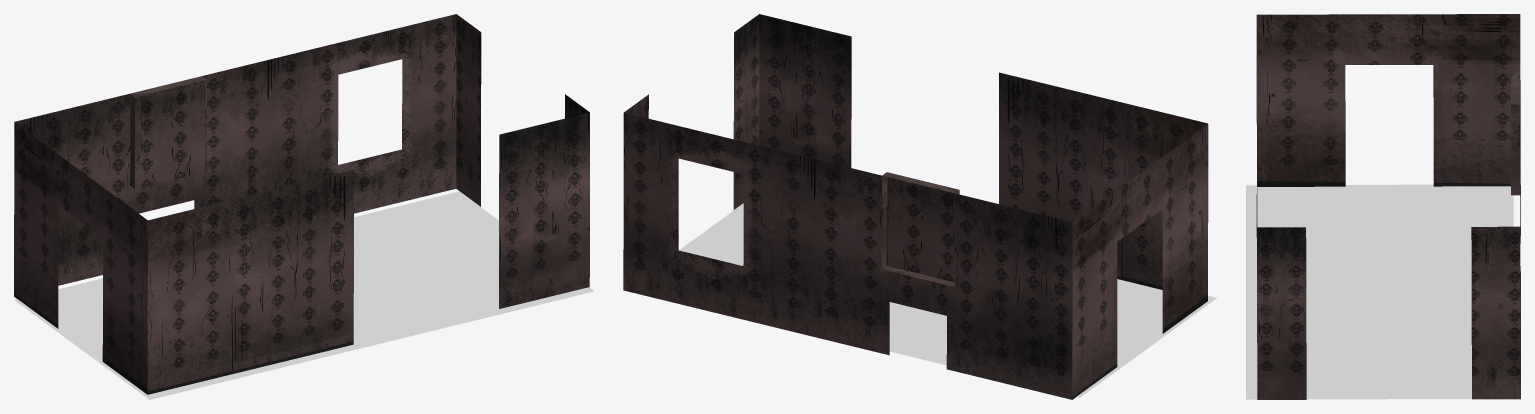
File: ES_Comedor.fbx
3 renders of one model, left to right at view 1: azimuth 30°, elevation 25°; view 2: azimuth 150°, elevation 25°; view 3: azimuth 270°, elevation 25°, orthographic. The views are drawn at different scales.
Parts seen in each view (by area): view 1: salon, Suelo_Comedor; view 2: salon, Suelo_Comedor; view 3: salon, Suelo_Comedor.
Boxes of the visible parts, x1=… form: salon: x1=14, y1=14, x2=589, y2=394; Suelo_Comedor: x1=14, y1=191, x2=594, y2=399; salon: x1=623, y1=14, x2=1208, y2=399; Suelo_Comedor: x1=679, y1=203, x2=1216, y2=397; salon: x1=1256, y1=14, x2=1520, y2=399; Suelo_Comedor: x1=1246, y1=184, x2=1513, y2=399.
Size of the model in its own units: 318 by 120 by 172.
